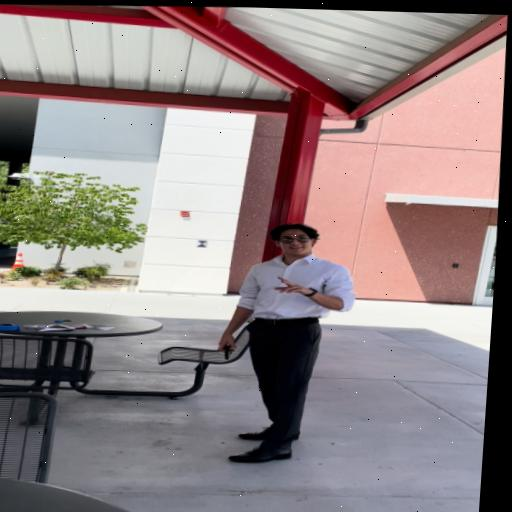target2: (196, 240, 209, 248)
